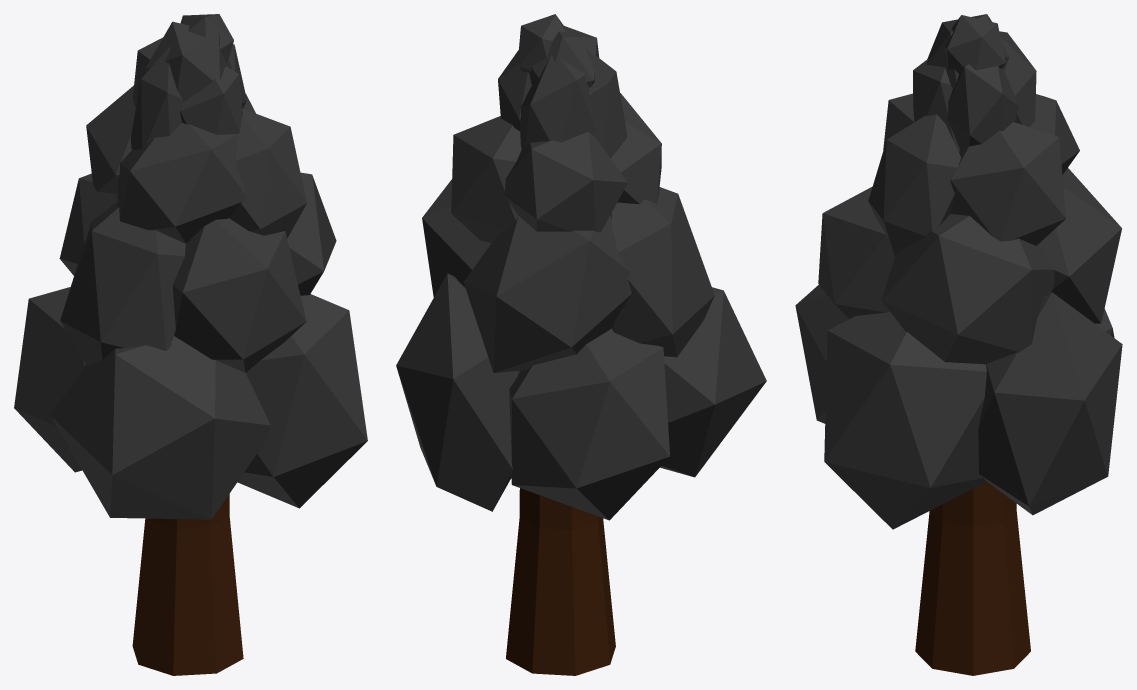
File: ThirdPersonMap.fbx
The picture shows the model from 3 angles, left to right: view 1: azimuth 30°, elevation 25°; view 2: azimuth 150°, elevation 25°; view 3: azimuth 270°, elevation 25°; orthographic projection.
Visible parts, largest first — view 1: sm_treeLeaves1, sm_treeTrunk1; view 2: sm_treeLeaves1, sm_treeTrunk1; view 3: sm_treeLeaves1, sm_treeTrunk1.
Part boxes in pixels (left/top/right/bottom): sm_treeLeaves1: left=14, top=14, right=367, bottom=519; sm_treeTrunk1: left=132, top=494, right=243, bottom=675; sm_treeLeaves1: left=396, top=14, right=766, bottom=520; sm_treeTrunk1: left=506, top=488, right=615, bottom=675; sm_treeLeaves1: left=795, top=14, right=1122, bottom=529; sm_treeTrunk1: left=915, top=482, right=1030, bottom=675.
Size of what is drawn, in the model's own units: 217 by 212 by 459.
